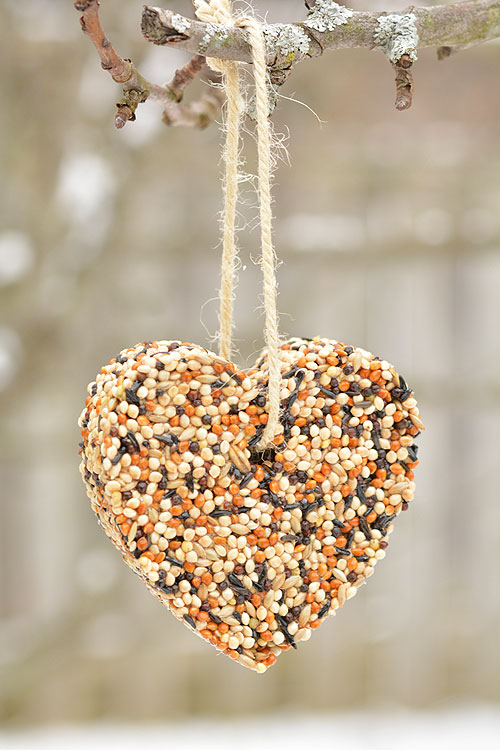seed: (54, 312, 454, 695)
